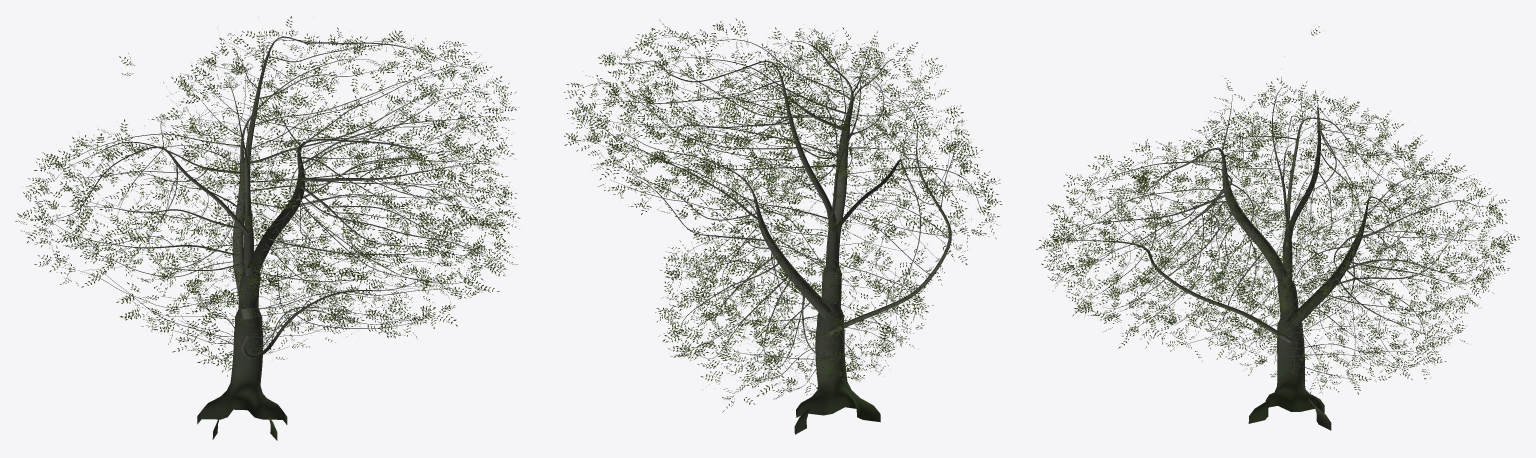
Rendered from SM_Tree_ash_4.glb.
3 views of the same model, side by side, from view 1: azimuth 30°, elevation 25°; view 2: azimuth 150°, elevation 25°; view 3: azimuth 270°, elevation 25° (orthographic). The views are drawn at different scales.
Visible parts, largest first — view 1: SM_Tree_ash_4; view 2: SM_Tree_ash_4; view 3: SM_Tree_ash_4.
Part boxes in pixels (left/top/right/bottom): SM_Tree_ash_4: left=15, top=16, right=520, bottom=440; SM_Tree_ash_4: left=564, top=18, right=1002, bottom=434; SM_Tree_ash_4: left=1036, top=26, right=1519, bottom=430.
Size of the model in its own units: 24.87 by 22.51 by 27.01.
